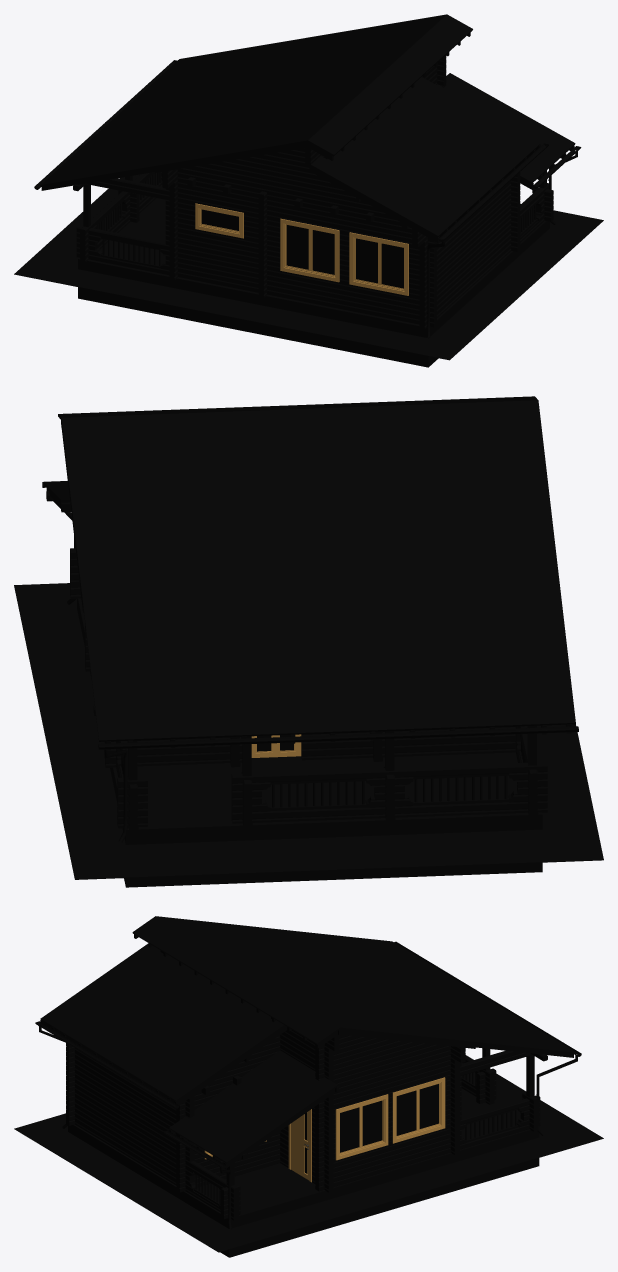
Rendered from NewHouse.fbx.
The picture shows the model from 3 angles, top to bottom: view 1: azimuth 30°, elevation 25°; view 2: azimuth 150°, elevation 25°; view 3: azimuth 270°, elevation 25°; orthographic projection. The views are drawn at different scales.
Visible parts, largest first — view 1: Покриття крыша, Стены, Plane02, Фундам, 8:1:4, Водосток02, 131:22:4, 132:18:4, 132:22:4, 131:18:4, Водосток03, 133:15:4 (+2 smaller); view 2: Покриття крыша, Plane02, Фундам, Стены, Водосток03, 8:1:4; view 3: Покриття крыша, Стены, Plane02, Фундам, 8:1:4, 118:24:5, Водосток02, Водосток03, 120:22:4, 121:18:4, 120:18:4, 121:22:4 (+3 smaller).
Part boxes in pixels (box(x1,y1,x2,y2)): Покриття крыша: box(40, 14, 575, 237); Стены: box(41, 32, 574, 329); Plane02: box(14, 172, 603, 360); Фундам: box(78, 198, 549, 367); 8:1:4: box(96, 172, 537, 268); Водосток02: box(426, 143, 548, 337); 131:22:4: box(381, 243, 403, 288); 132:18:4: box(312, 230, 334, 274); 132:22:4: box(286, 225, 308, 269); 131:18:4: box(356, 238, 377, 283); Водосток03: box(34, 60, 176, 189); 133:15:4: box(201, 209, 238, 230); Покриття крыша: box(43, 396, 575, 741); Plane02: box(14, 583, 603, 879); Фундам: box(77, 598, 542, 887); Стены: box(46, 420, 571, 832); Водосток03: box(98, 726, 578, 842); 8:1:4: box(119, 742, 525, 810); Покриття крыша: box(40, 916, 576, 1163); Стены: box(40, 934, 573, 1220); Plane02: box(14, 1056, 603, 1252); Фундам: box(68, 1088, 539, 1257); 8:1:4: box(194, 1062, 518, 1205); 118:24:5: box(291, 1110, 309, 1180); Водосток02: box(35, 1021, 179, 1128); Водосток03: box(394, 941, 581, 1135); 120:22:4: box(362, 1100, 382, 1145); 121:18:4: box(396, 1090, 416, 1135); 120:18:4: box(340, 1107, 359, 1152); 121:22:4: box(419, 1084, 438, 1128).
Bounding box in the file's own units: 15104 × 6173 × 15850.
